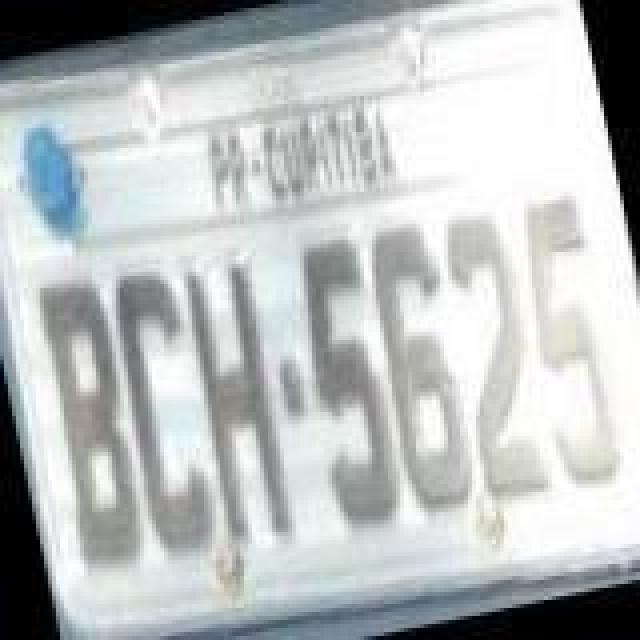2: (428, 206, 564, 506)
5: (276, 232, 412, 536), (500, 192, 636, 496)
6: (352, 216, 488, 520)
B: (20, 272, 156, 576)
C: (98, 256, 230, 560)
H: (174, 258, 306, 550)
